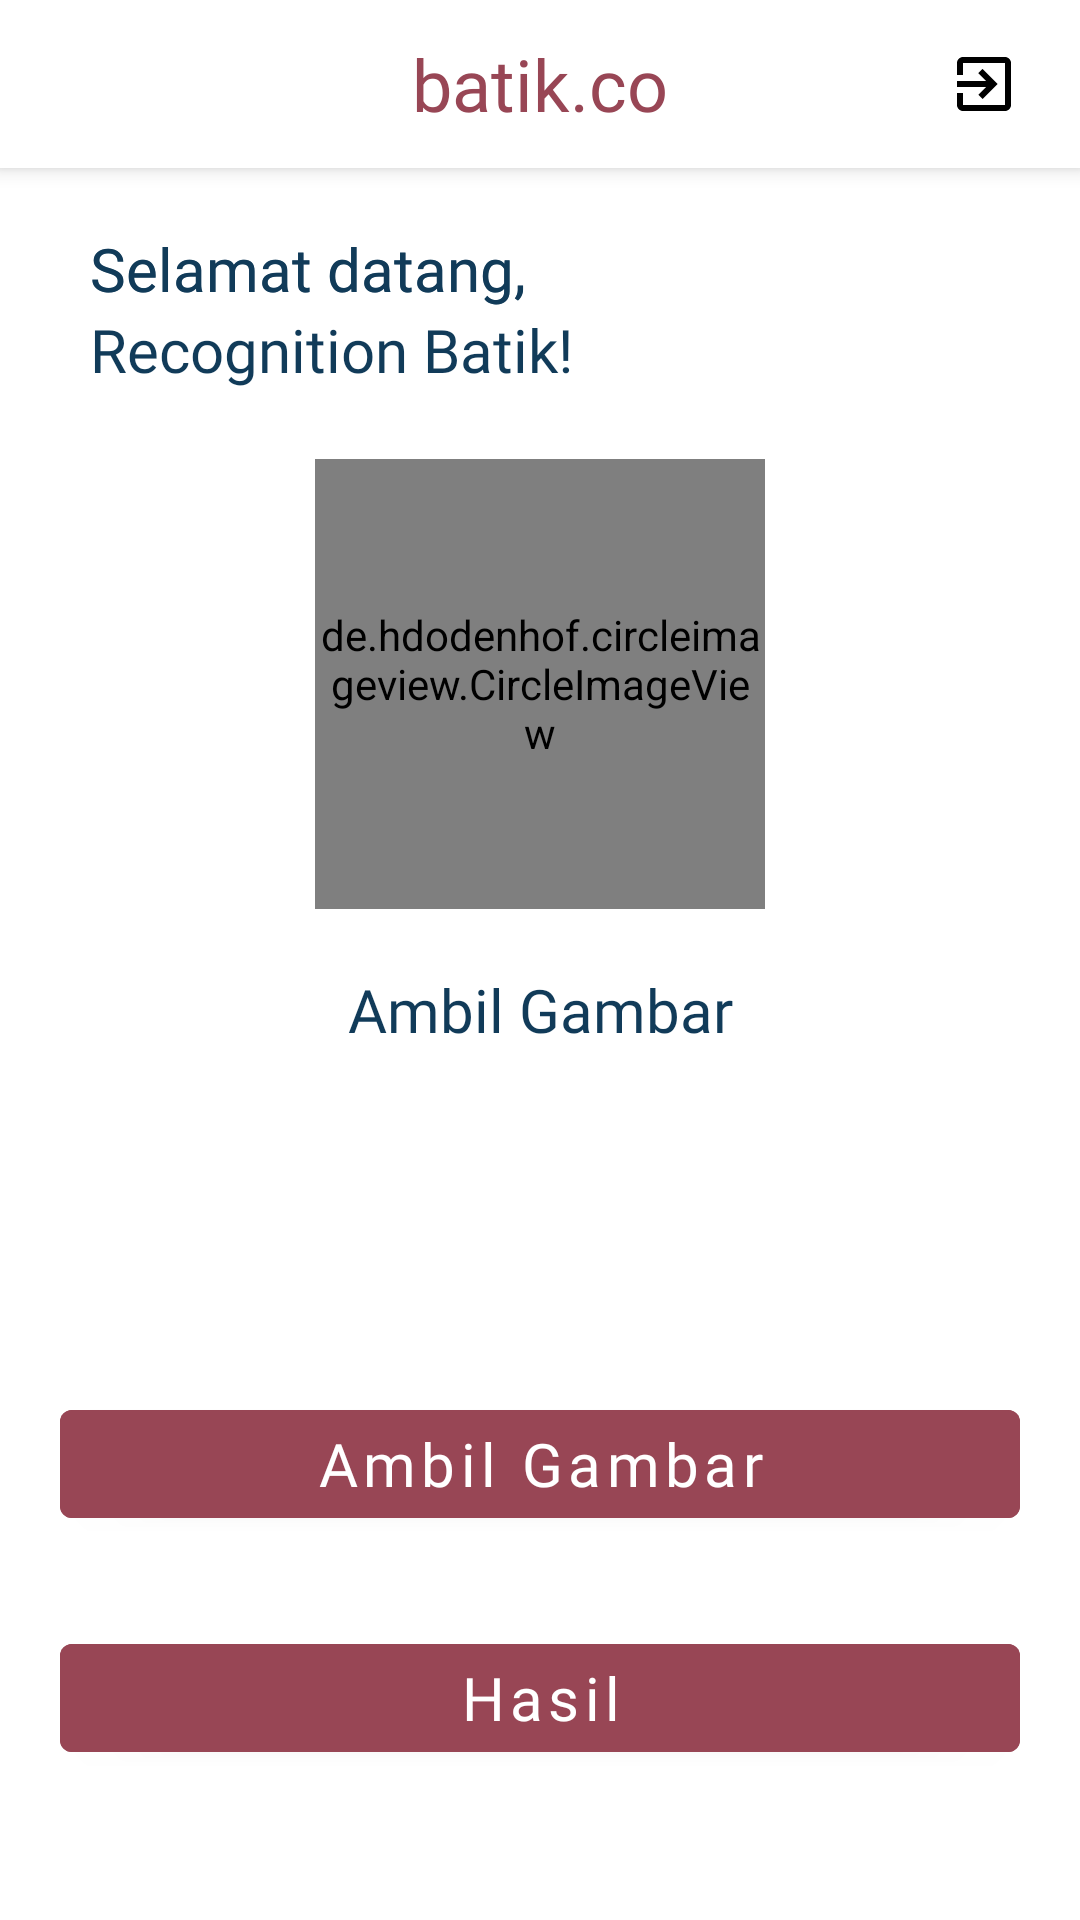

Icons on this 1080w x 1920h Android screen, each with the point to tap as point (x, y):
exit: point (984, 84)
